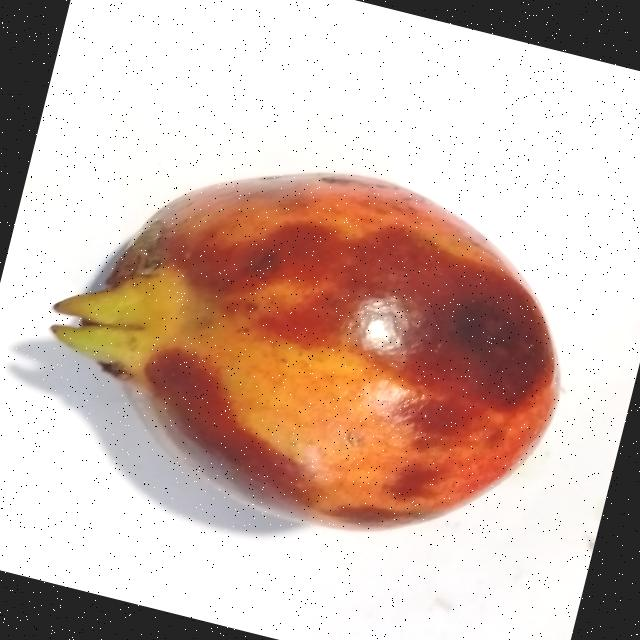Rotten: (8, 101, 605, 580)
